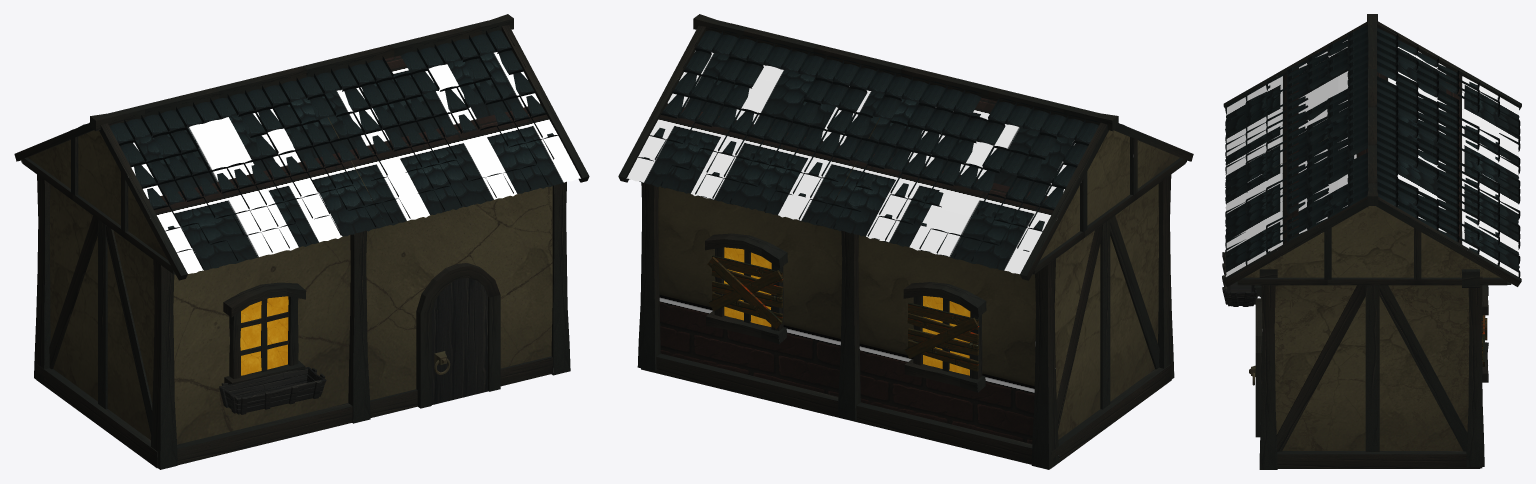
File: Damaged.House.002.glb
3 views of the same model, side by side, from view 1: azimuth 30°, elevation 25°; view 2: azimuth 150°, elevation 25°; view 3: azimuth 270°, elevation 25° (orthographic). The views are drawn at different scales.
Parts seen in each view (by area): view 1: Damaged.House.002; view 2: Damaged.House.002; view 3: Damaged.House.002.
Part boxes in pixels (box(x1,y1,x2,y2)): Damaged.House.002: box(14, 14, 589, 469); Damaged.House.002: box(618, 14, 1193, 469); Damaged.House.002: box(1222, 14, 1521, 469).
Bounding box in the file's own units: 6.81 × 4.79 × 4.73.
Materials: 5 (5 with a texture image).
